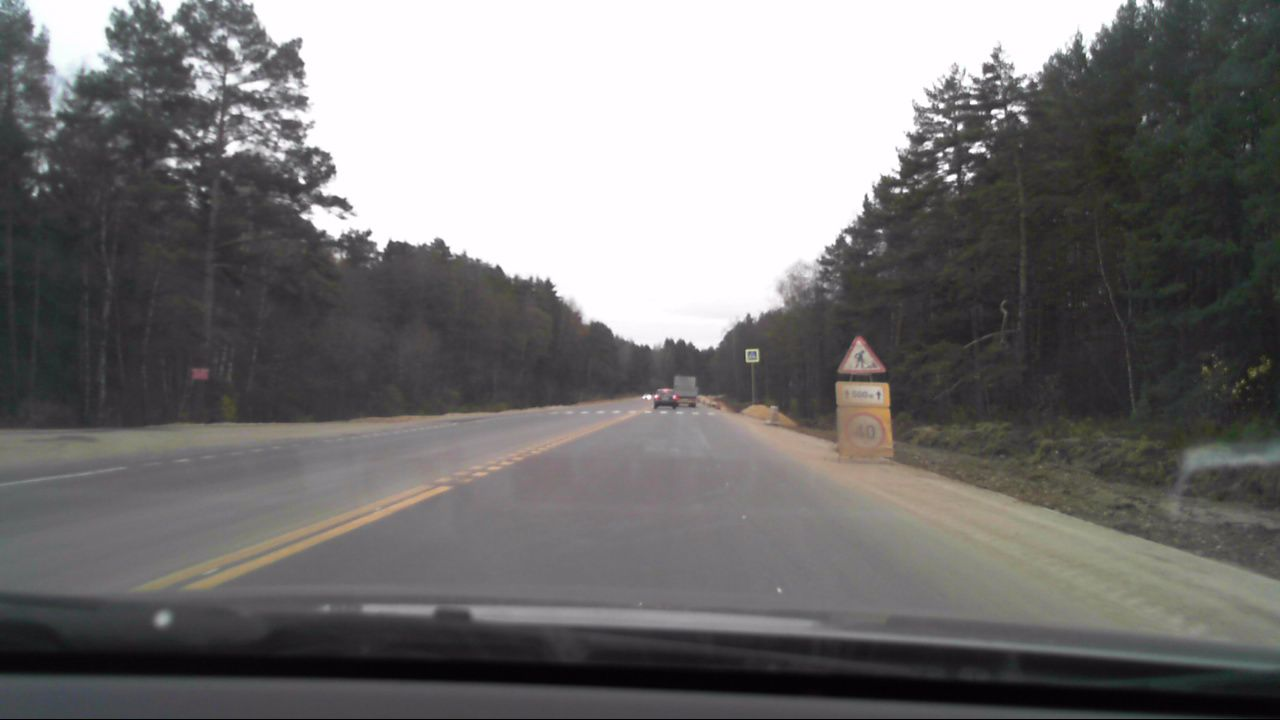speed_warning_40: (843, 411, 885, 452)
